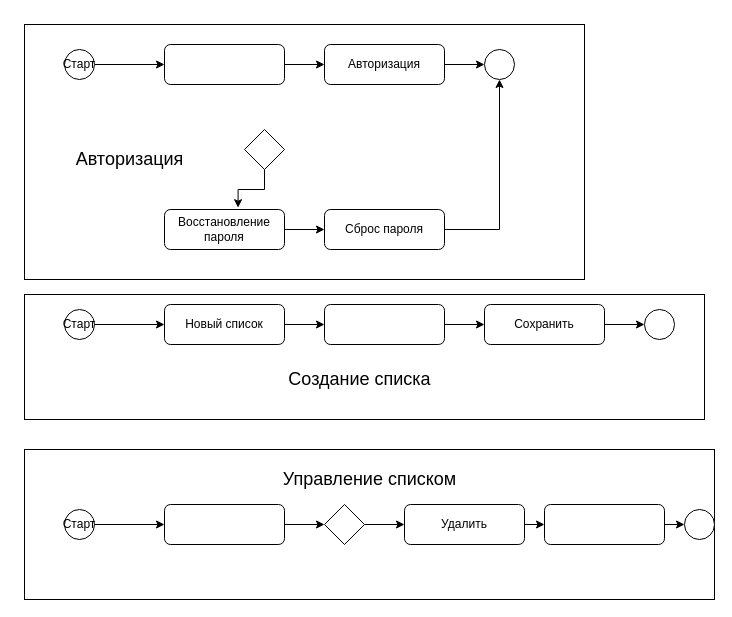
The diagram is 732 pixels wide and 617 high, and some of its shapes have lost their labels. Each missing label, with the box of its shape:
Добавить товары: (324, 304, 444, 344)
Дублировать: (544, 504, 664, 544)
Просмотр: (164, 504, 284, 544)
Регистрация: (164, 44, 284, 84)
